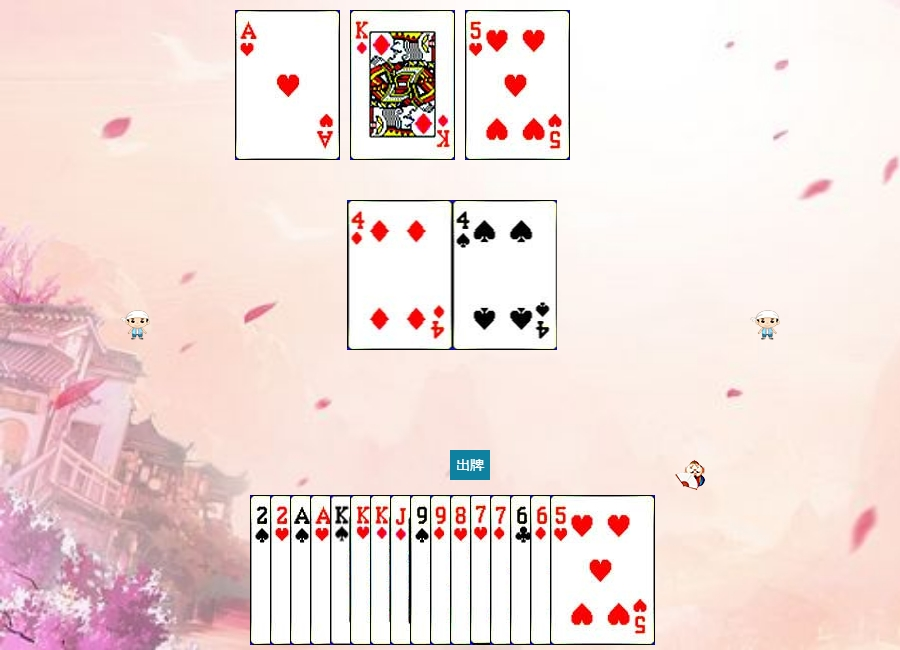11~1: (390, 495, 495, 645)
13~1: (350, 10, 455, 160), (370, 495, 475, 645)
13~3: (350, 495, 455, 645)
13~4: (330, 495, 435, 645)
14~3: (235, 10, 340, 160), (310, 495, 415, 645)
14~4: (290, 495, 395, 645)
15~3: (270, 495, 375, 645)
15~4: (250, 495, 355, 645)
4~1: (348, 200, 453, 350)
4~4: (453, 200, 558, 350)
5~3: (465, 10, 570, 160), (550, 495, 655, 645)
6~1: (530, 495, 635, 645)
6~2: (510, 495, 615, 645)
7~1: (490, 495, 595, 645)
7~3: (470, 495, 575, 645)
8~3: (450, 495, 555, 645)
9~1: (430, 495, 535, 645)
9~4: (410, 495, 515, 645)
